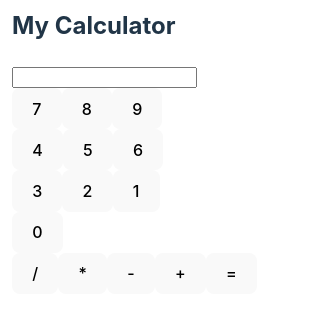
Calculator › Should change the input field value to 1+2 when pressing first the button 1 then + button then 1 button again
Click the button "1".
click(136, 191)  # box [113, 170, 160, 212]
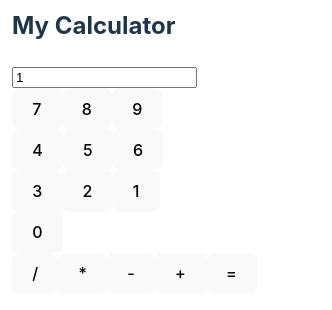
Click the button "+".
click(180, 273)  # box [155, 253, 206, 294]
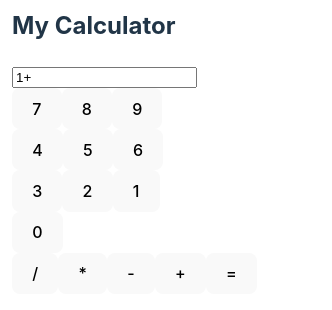
Click the button "2".
click(88, 191)  # box [62, 170, 113, 212]
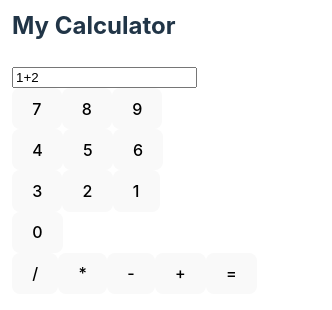
Result: the field showing "1+2" is shown at [12, 67, 197, 88]
